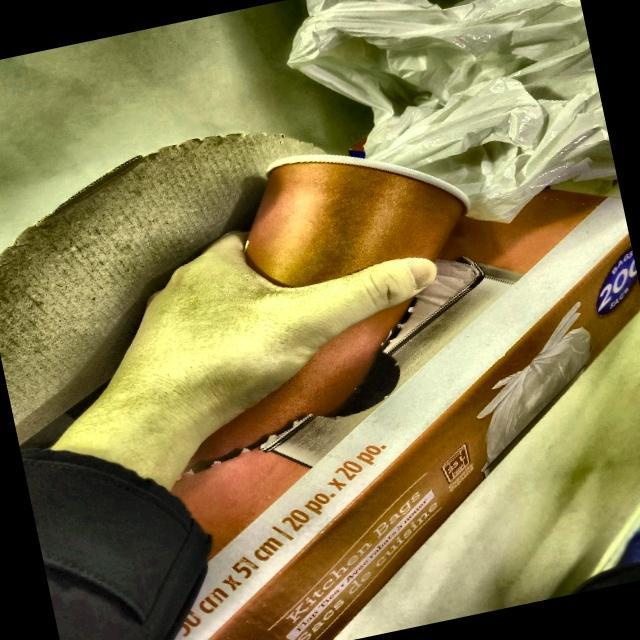timmies: (181, 140, 481, 464)
